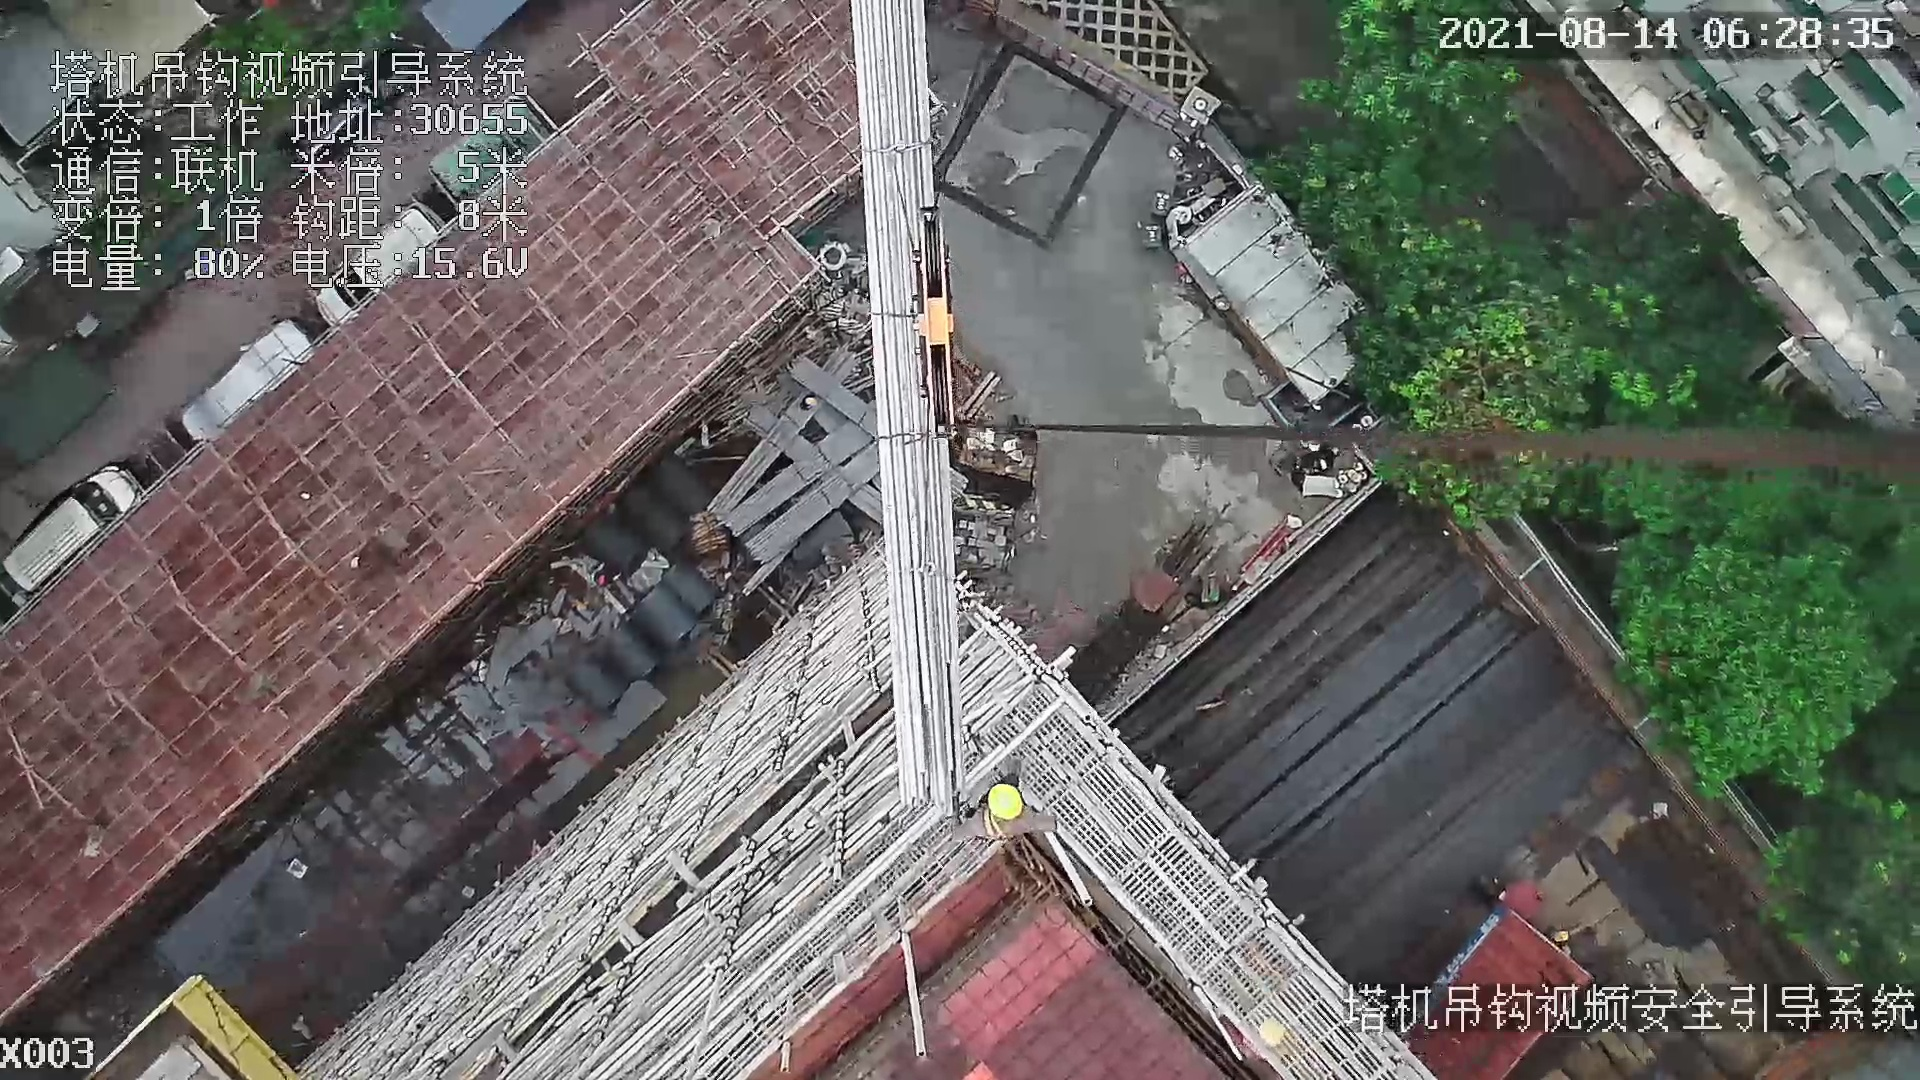helmet: (975, 781, 1037, 830)
hook: (915, 200, 958, 441)
person: (947, 762, 1063, 844)
